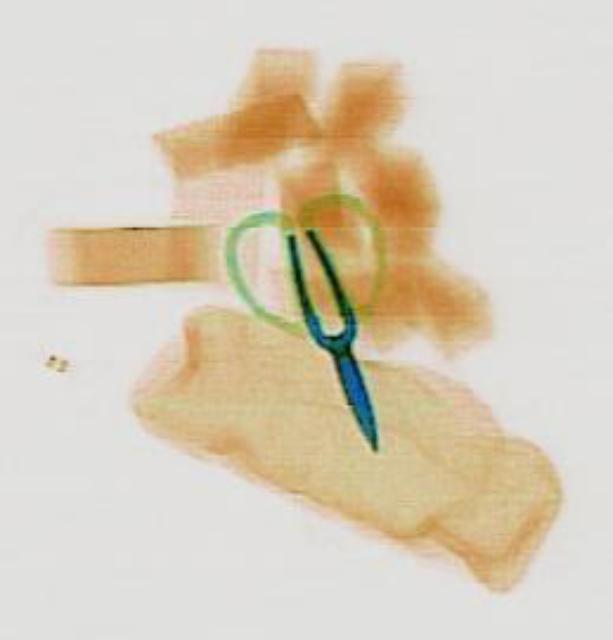Scissors: (206, 174, 449, 476)
